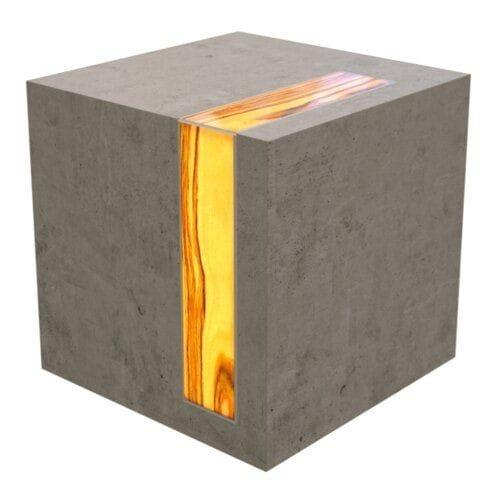cubos: (20, 20, 481, 473)
